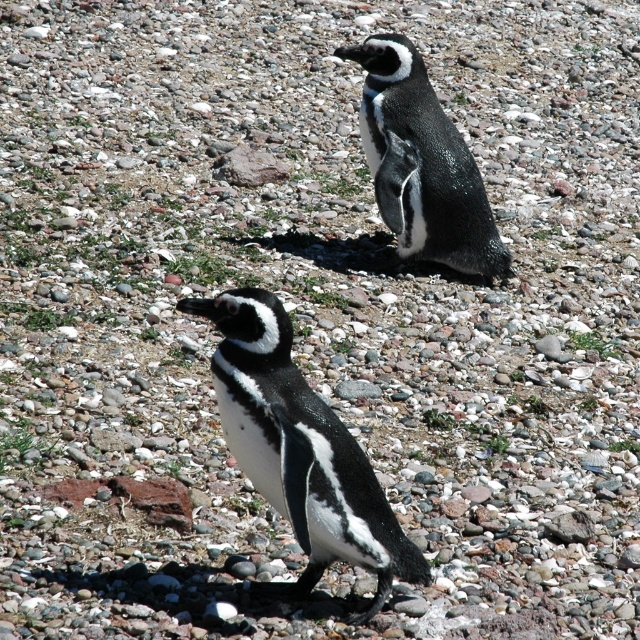Penguin: (174, 286, 434, 626), (333, 33, 517, 281)
